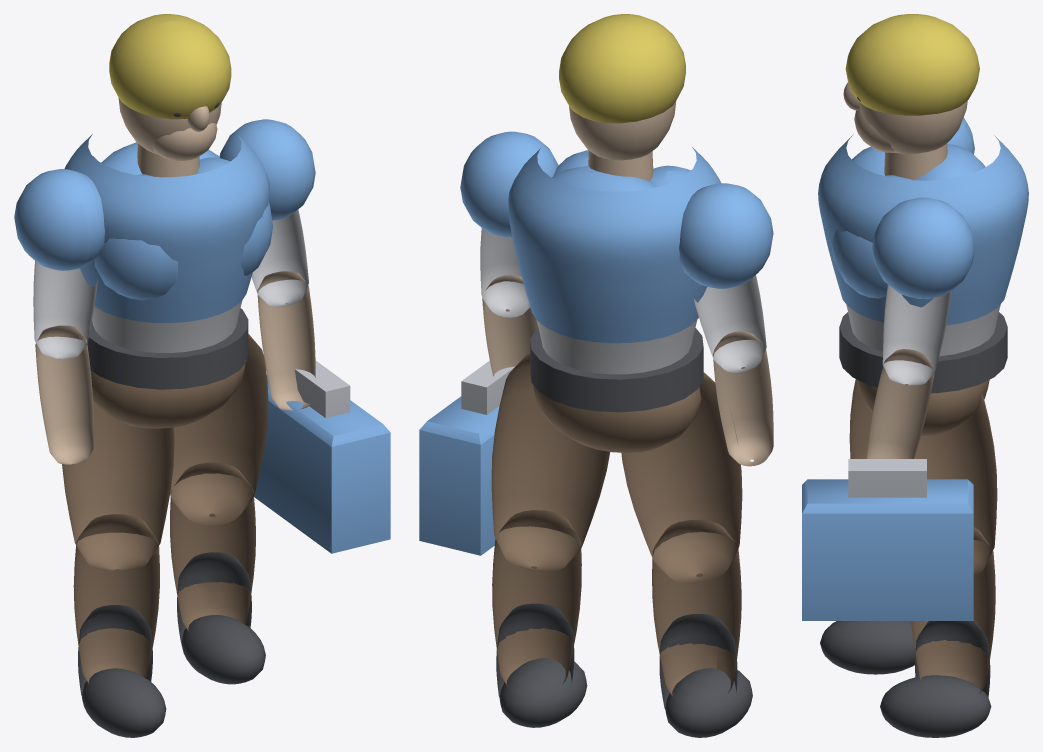
Rendered from engineer.glb.
3 views of the same model, side by side, from view 1: azimuth 30°, elevation 25°; view 2: azimuth 150°, elevation 25°; view 3: azimuth 270°, elevation 25° (orthographic). The views are drawn at different scales.
Visible parts, largest first — view 1: Hull; view 2: Hull; view 3: Hull.
Boxes of the visible parts, x1,y1,x2,y2 form: Hull: (14,14,390,737); Hull: (419,14,773,737); Hull: (802,14,1028,737).
Size of the model in its own units: 0.4509 by 0.948 by 0.2858.
